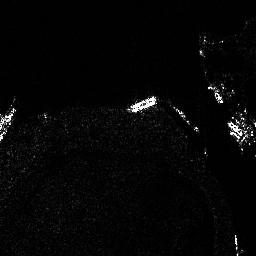ship: (171, 103, 199, 131), (227, 118, 248, 143), (129, 96, 158, 113), (211, 83, 224, 105)
